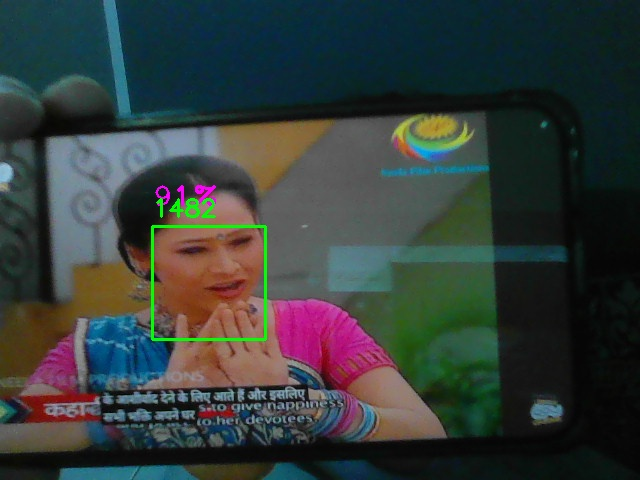fake: (152, 226, 266, 340)
